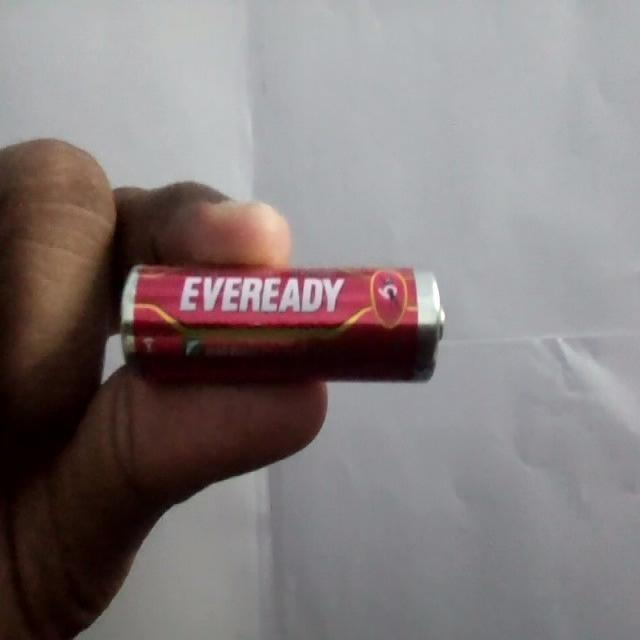battery: (121, 263, 447, 383)
